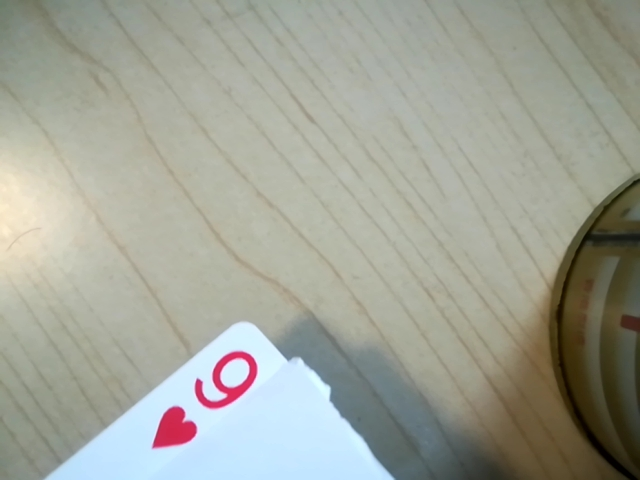hx 9: (162, 346, 274, 440)
